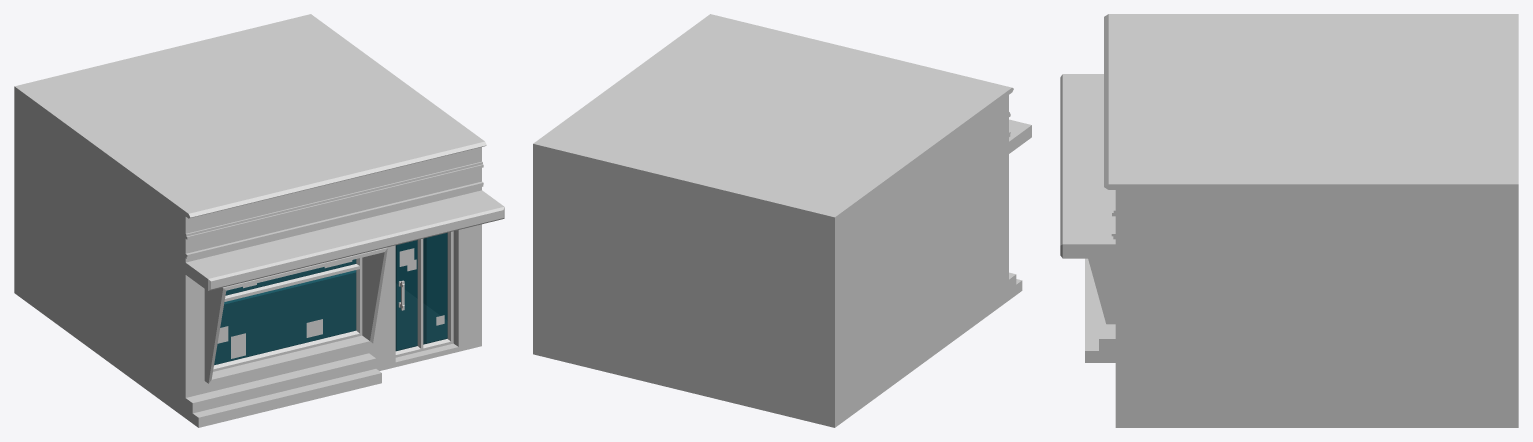
Rendered from building_shop_02.fbx.
3 views of the same model, side by side, from view 1: azimuth 30°, elevation 25°; view 2: azimuth 150°, elevation 25°; view 3: azimuth 270°, elevation 25° (orthographic). The views are drawn at different scales.
Visible parts, largest first — view 1: building_shop_02, building_shop_02_glass; view 2: building_shop_02; view 3: building_shop_02.
Boxes of the visible parts, x1=… form: building_shop_02: x1=14, y1=14, x2=504, y2=427; building_shop_02_glass: x1=214, y1=232, x2=447, y2=365; building_shop_02: x1=533, y1=14, x2=1031, y2=427; building_shop_02: x1=1060, y1=14, x2=1518, y2=427.
Size of the model in its own units: 600 by 400 by 682.
